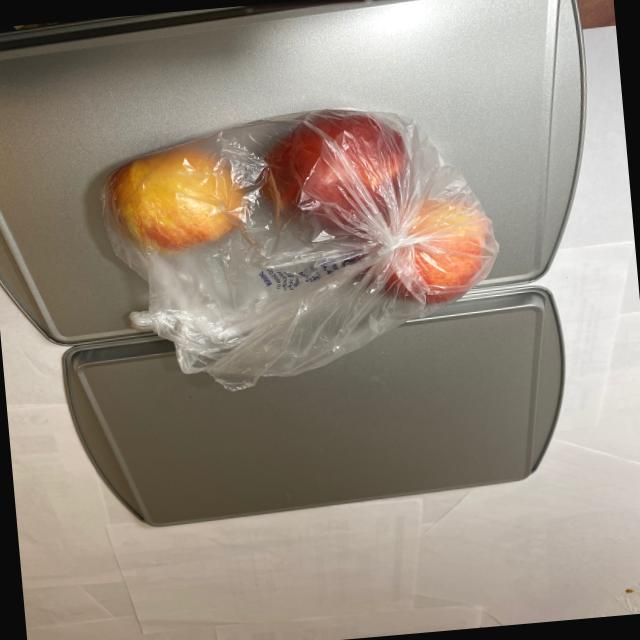apple: (91, 98, 512, 338)
